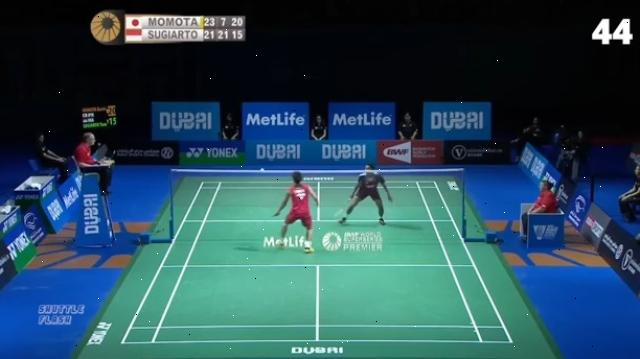Shuttlecock: (258, 167, 266, 177)
